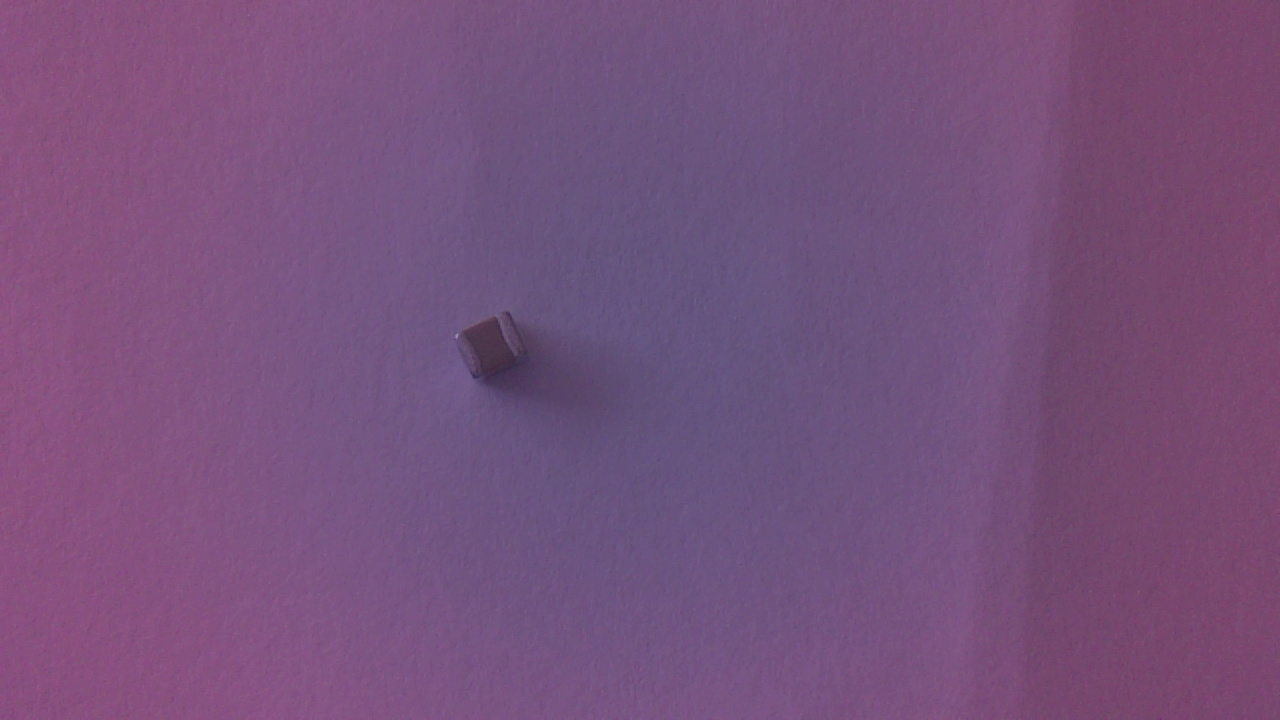Condensator: (454, 310, 534, 395)
